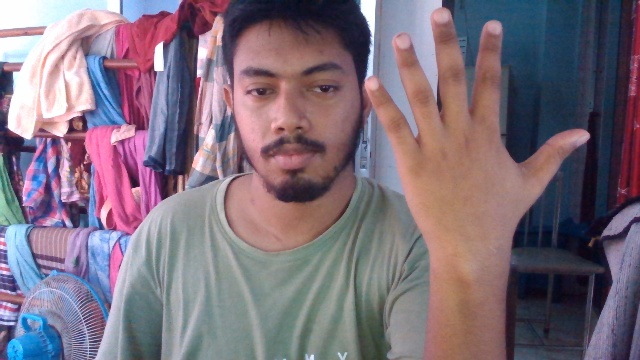hello: (367, 9, 590, 251)
